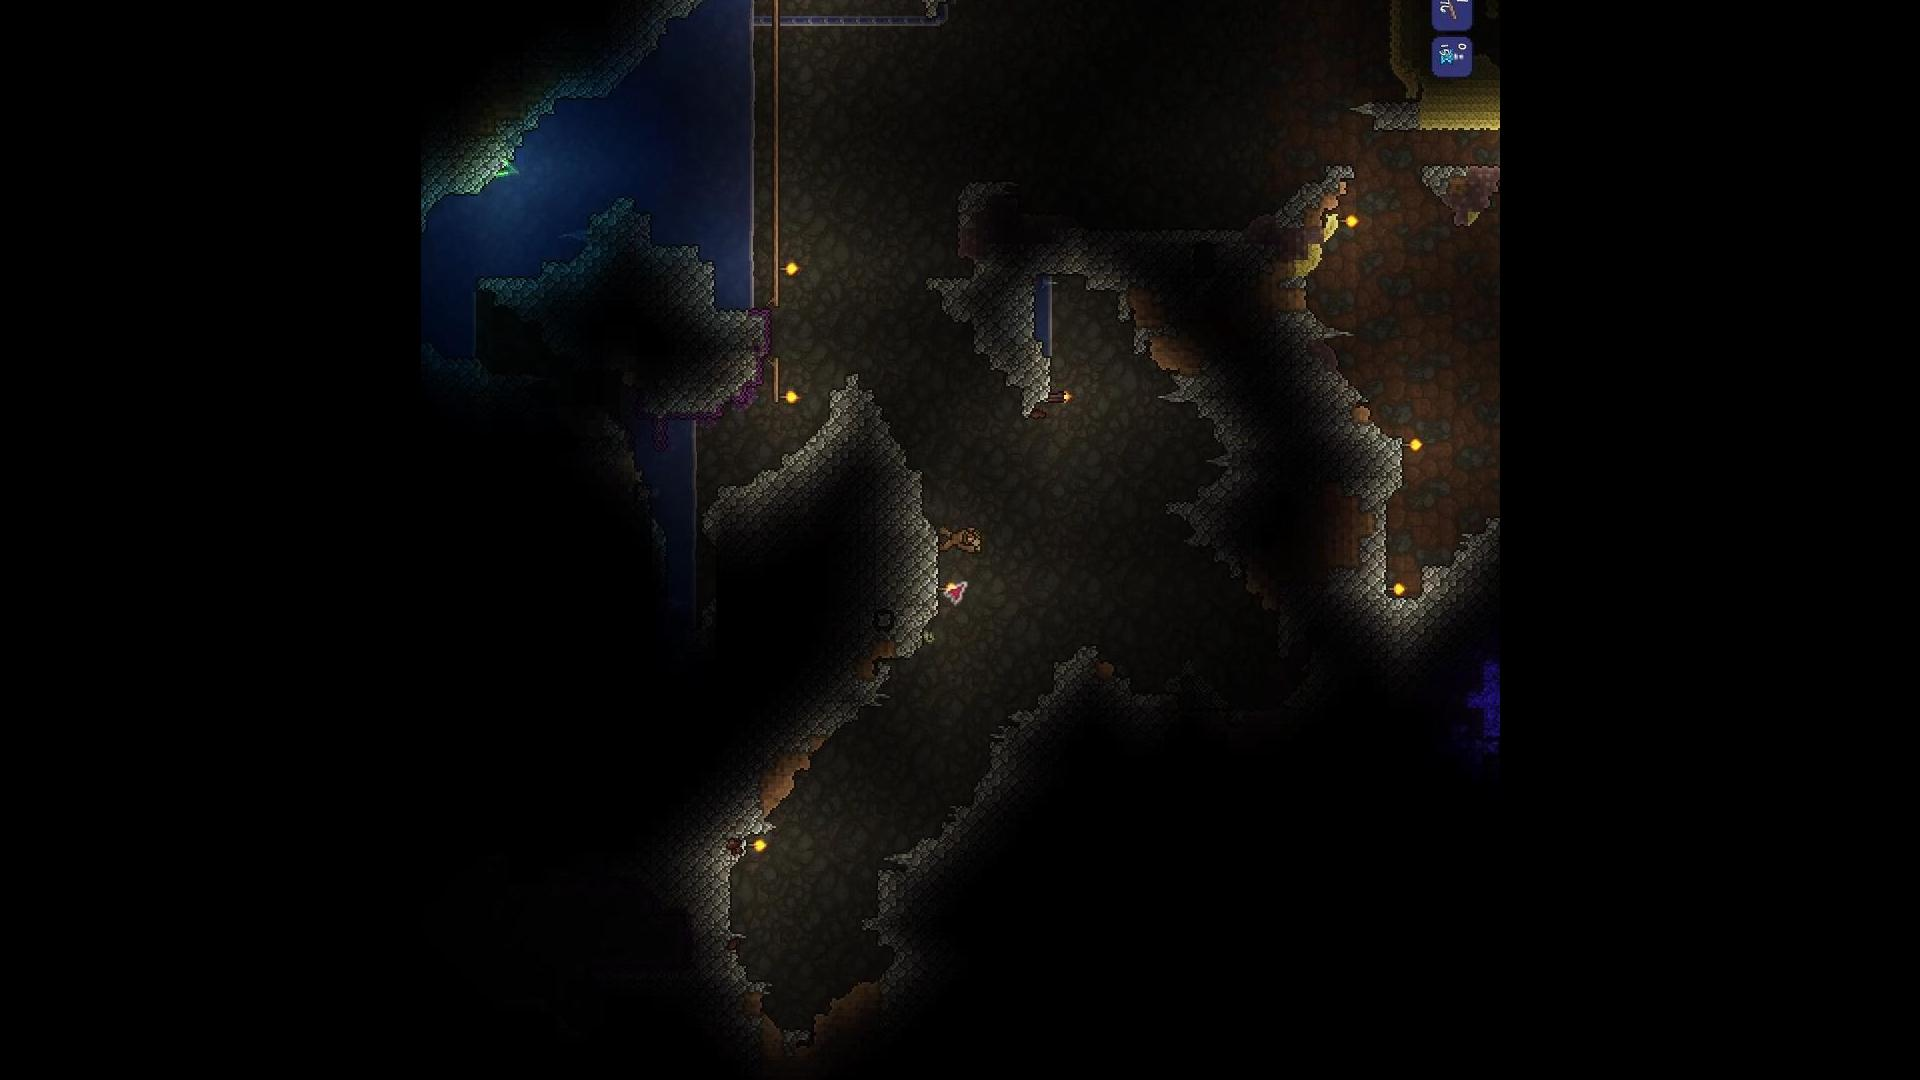glowstick: (491, 156, 526, 183)
liquid: (733, 251, 764, 293), (737, 70, 761, 113), (733, 215, 762, 251), (733, 181, 762, 215), (733, 149, 760, 181), (735, 17, 762, 46), (737, 113, 760, 149), (737, 46, 761, 76), (680, 425, 705, 451), (680, 451, 705, 475), (680, 475, 705, 498), (735, 293, 764, 307), (737, 0, 760, 17)
platform: (764, 251, 781, 281), (764, 227, 785, 251), (764, 355, 781, 384), (765, 15, 785, 37), (766, 91, 782, 117), (764, 280, 782, 302), (767, 144, 785, 167), (762, 385, 781, 404), (765, 0, 783, 13)
